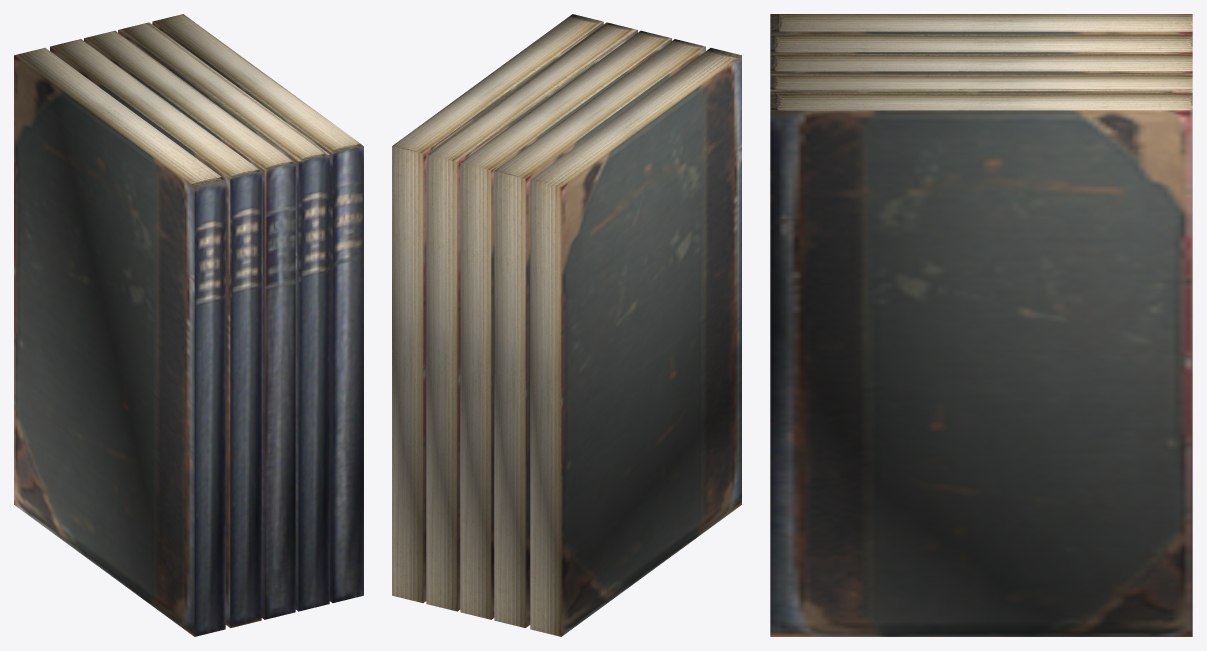
The model's file is off_books1C.fbx.
3 renders of one model, left to right at view 1: azimuth 30°, elevation 25°; view 2: azimuth 150°, elevation 25°; view 3: azimuth 270°, elevation 25°, orthographic. The views are drawn at different scales.
Parts seen in each view (by area): view 1: Book10, Book110, Book11, Book12, Book13; view 2: Book10, Book110, Book11, Book12, Book13; view 3: Book13, Book10, Book110, Book11, Book12.
Part boxes in pixels (x1,y1,x2,y2): Book10: [14, 48, 225, 636]; Book110: [50, 39, 261, 627]; Book11: [84, 30, 295, 619]; Book12: [118, 22, 329, 611]; Book13: [152, 14, 363, 602]; Book10: [530, 48, 741, 636]; Book110: [494, 39, 705, 627]; Book11: [460, 30, 671, 619]; Book12: [426, 22, 637, 611]; Book13: [392, 14, 603, 602]; Book13: [770, 93, 1192, 636]; Book10: [770, 14, 1192, 34]; Book110: [770, 34, 1192, 53]; Book11: [770, 54, 1192, 73]; Book12: [770, 73, 1192, 92].
Size of the model in its own units: 0.2949 by 0.7484 by 0.5447.
